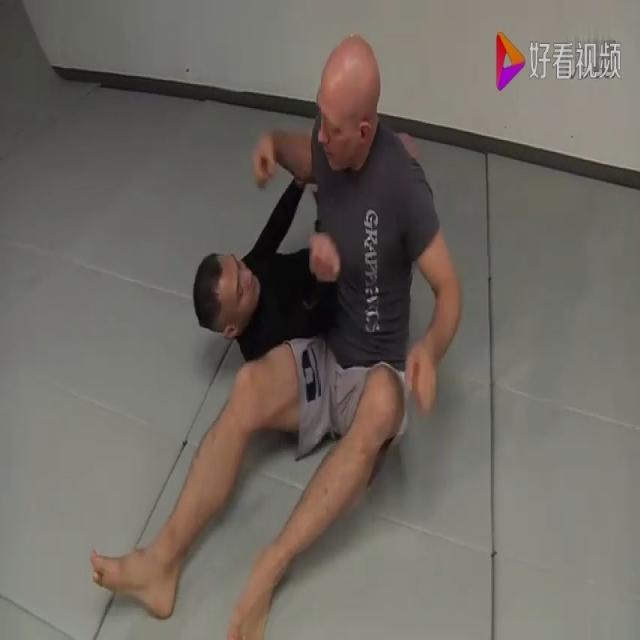fight: (20, 9, 483, 639)
